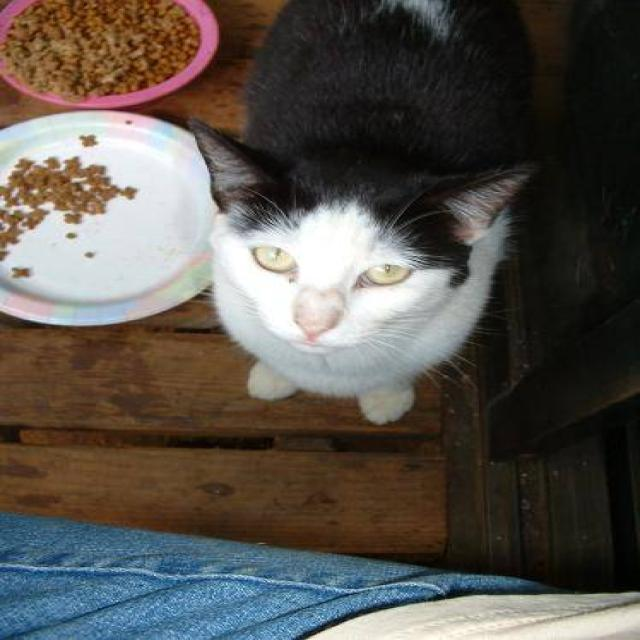cat: (185, 0, 539, 425)
